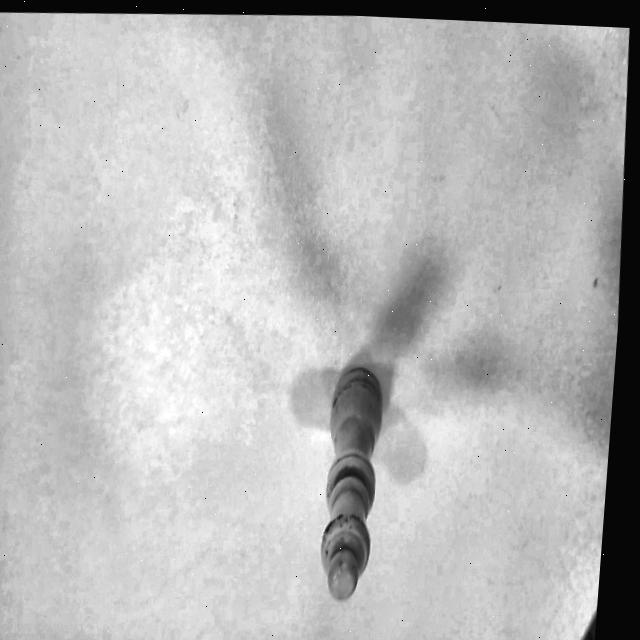white-queen: (303, 345, 399, 621)
